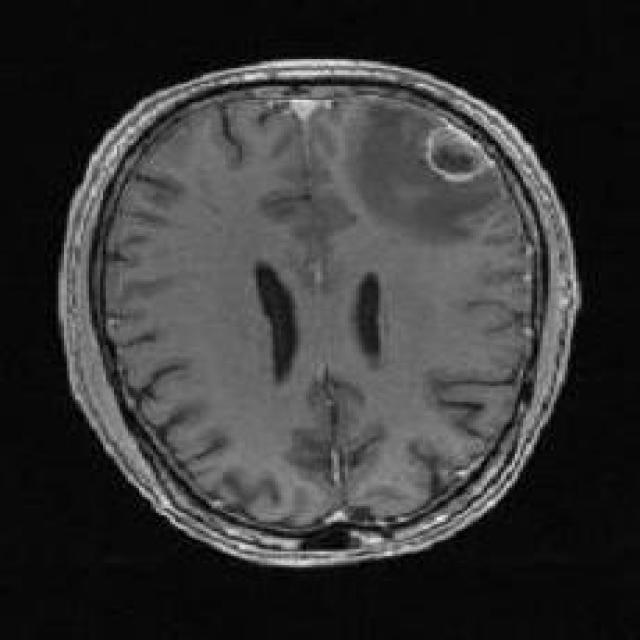notumor: (58, 61, 579, 565)
